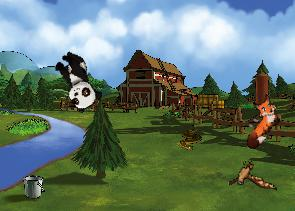eagle: (224, 155, 277, 199)
fox: (229, 90, 289, 152)
panda: (48, 47, 105, 114)
